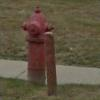Hydrant: (14, 2, 66, 89)
